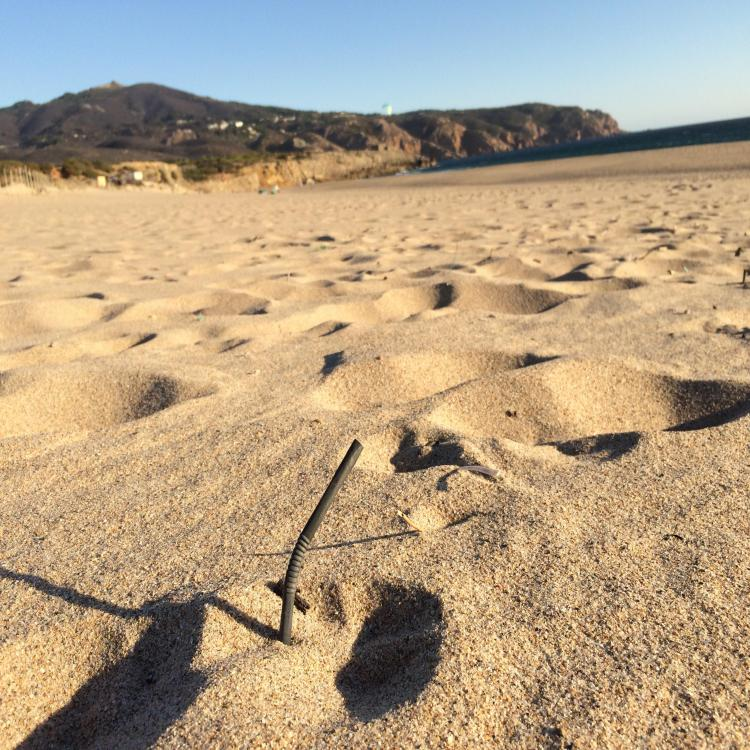Plastic straw: (278, 438, 364, 646)
